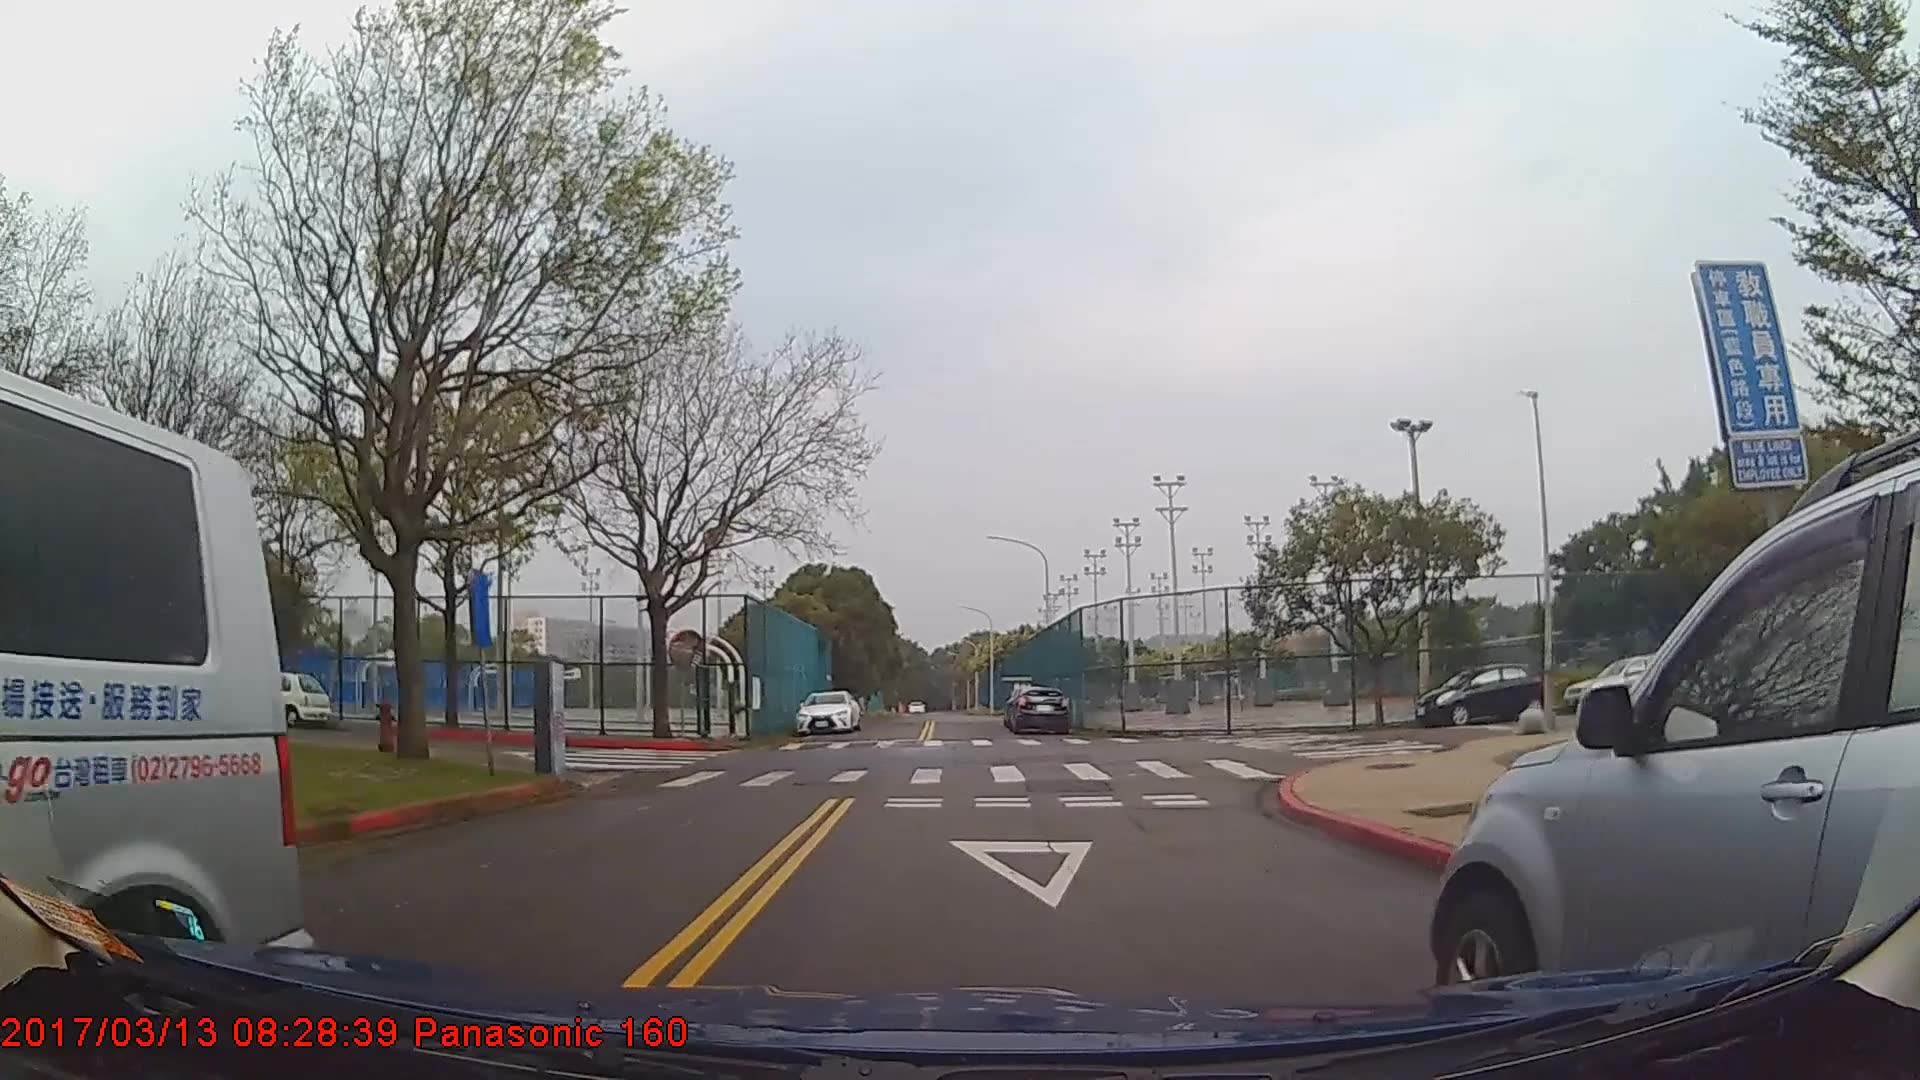vehicle: (1425, 450, 1920, 1046), (0, 359, 316, 1058), (1415, 665, 1545, 727), (1563, 651, 1679, 712), (235, 669, 330, 728), (1007, 683, 1071, 735), (796, 688, 858, 733)
